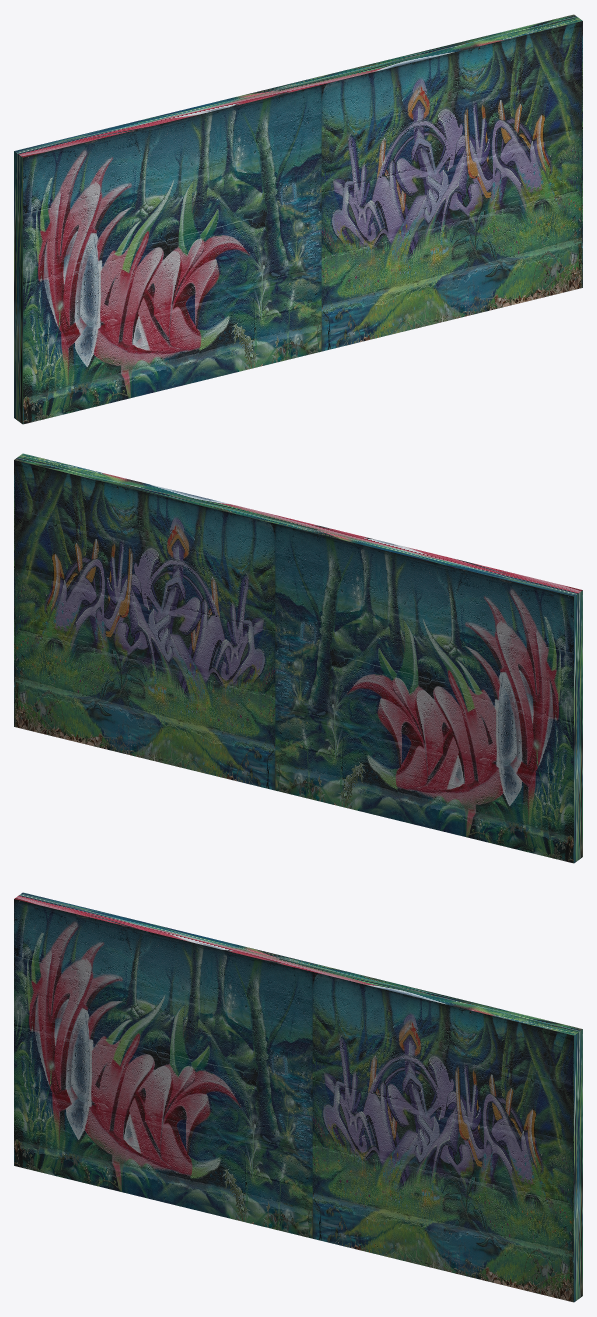
The model's file is Artwork05.fbx.
The picture shows the model from 3 angles, top to bottom: view 1: azimuth 30°, elevation 25°; view 2: azimuth 150°, elevation 25°; view 3: azimuth 330°, elevation 25°; orthographic projection.
Visible parts, largest first — view 1: Empty_Mesh; view 2: Empty_Mesh; view 3: Empty_Mesh.
Boxes of the visible parts, box(x1,y1,x2,y2) form: Empty_Mesh: box(14, 14, 582, 424); Empty_Mesh: box(14, 453, 582, 863); Empty_Mesh: box(14, 892, 582, 1302).
Bounding box in the file's own units: 542 × 247 × 14.9.
